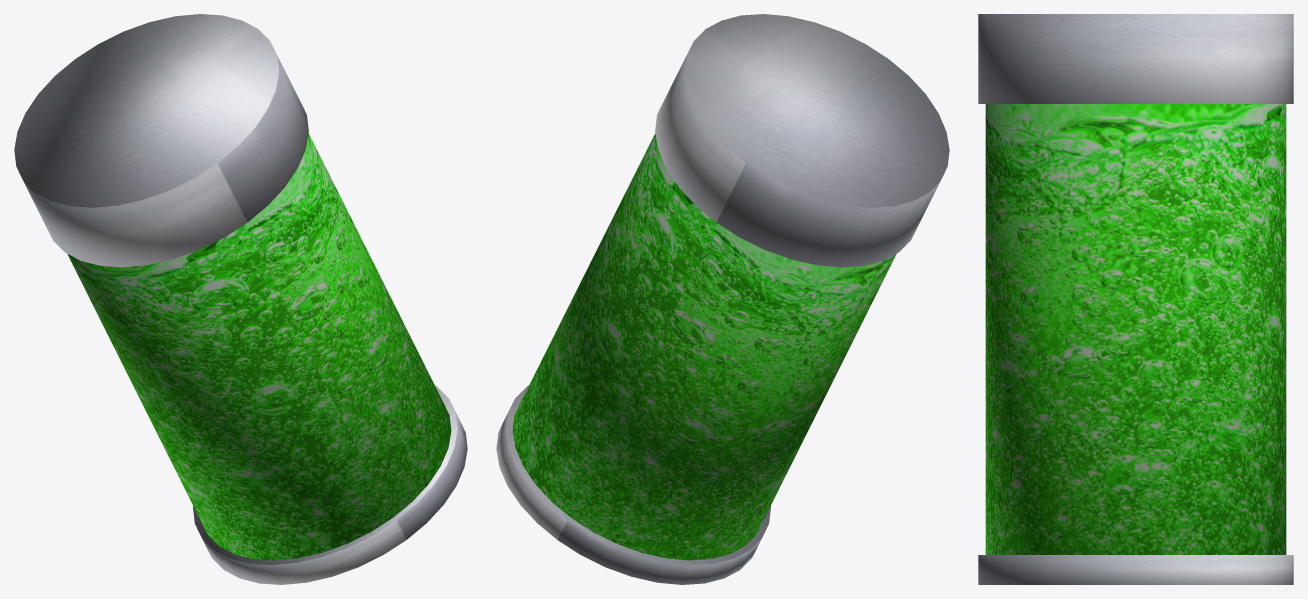
File: HearCapsule.fbx
3 views of the same model, side by side, from view 1: azimuth 30°, elevation 25°; view 2: azimuth 150°, elevation 25°; view 3: azimuth 270°, elevation 25° (orthographic). The views are drawn at different scales.
Visible parts, largest first — view 1: 円柱; view 2: 円柱; view 3: 円柱.
Boxes of the visible parts, x1,y1,x2,y2 form: 円柱: (14, 14, 467, 584); 円柱: (496, 14, 949, 584); 円柱: (978, 14, 1293, 584).
Bounding box in the file's own units: 3.51 × 4.33 × 2.1.
3 materials, 3 textured.
